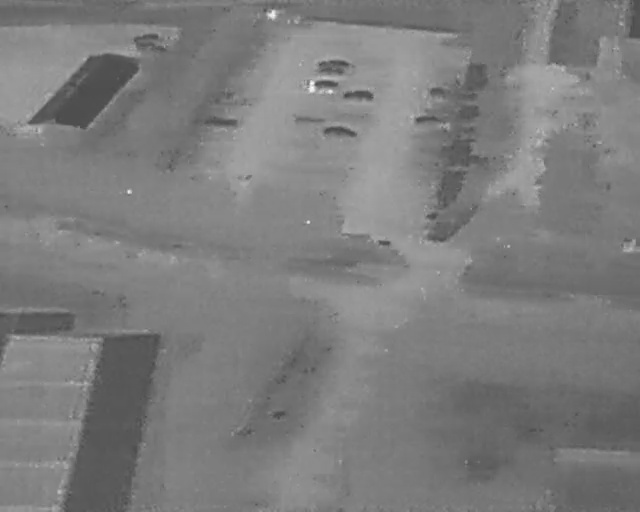Car: (306, 79, 340, 95), (316, 59, 355, 72), (323, 126, 357, 140), (413, 115, 444, 129), (343, 90, 374, 103), (315, 68, 348, 79), (136, 42, 166, 54), (429, 87, 454, 101), (133, 34, 160, 43)
